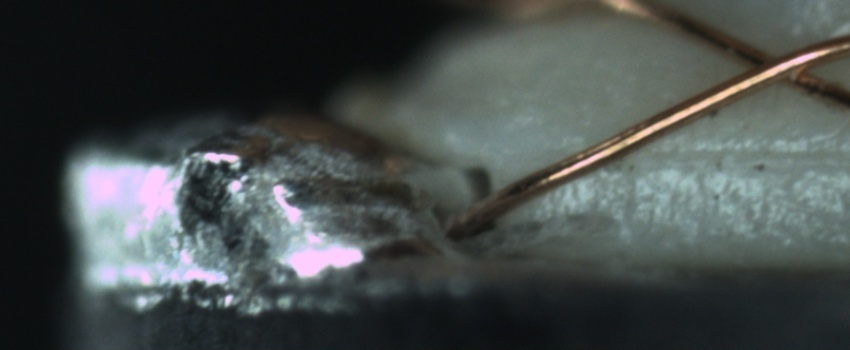CL: (711, 30, 841, 96)
DL: (609, 123, 848, 186)
